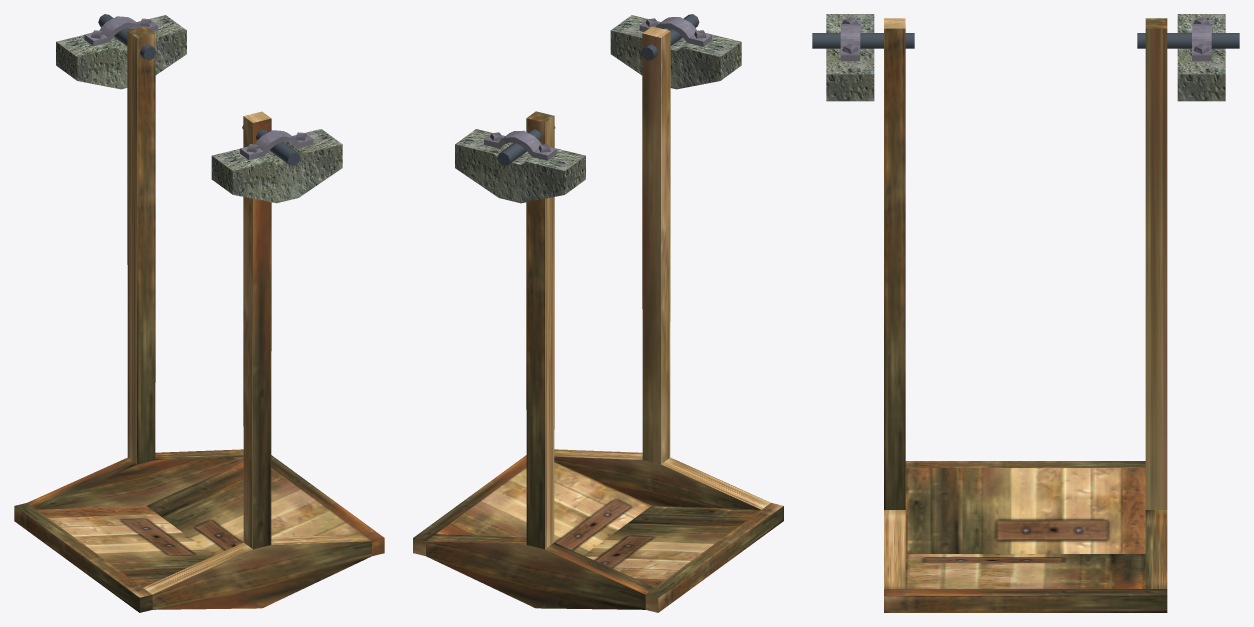
Rendered from P_Modul_08.FBX.
The picture shows the model from 3 angles, left to right: view 1: azimuth 30°, elevation 25°; view 2: azimuth 150°, elevation 25°; view 3: azimuth 270°, elevation 25°; orthographic projection. The views are drawn at different scales.
Parts seen in each view (by area): view 1: P_Modul_08_S2, P_Modul_08_S3, P_Modul_08_S5, P_Modul_08_S7, P_Modul_08_S6, P_Modul_08_S4, P_Modul_08_F1, P_Modul_08_F2, P_Modul_08_S8, P_Modul_08_S9, P_Modul_08_S1; view 2: P_Modul_08_S3, P_Modul_08_S2, P_Modul_08_S4, P_Modul_08_S7, P_Modul_08_S6, P_Modul_08_S5, P_Modul_08_F2, P_Modul_08_F1, P_Modul_08_S8, P_Modul_08_S9, P_Modul_08_S1; view 3: P_Modul_08_S6, P_Modul_08_S2, P_Modul_08_S3, P_Modul_08_S7, P_Modul_08_S9, P_Modul_08_F1, P_Modul_08_F2, P_Modul_08_S1, P_Modul_08_S4, P_Modul_08_S5, P_Modul_08_S8.
Part boxes in pixels (x1,y1,x2,y2): P_Modul_08_S2: (127, 26, 155, 464); P_Modul_08_S3: (243, 116, 271, 549); P_Modul_08_S5: (143, 534, 371, 609); P_Modul_08_S7: (146, 462, 361, 555); P_Modul_08_S6: (37, 505, 213, 587); P_Modul_08_S4: (27, 449, 243, 509); P_Modul_08_F1: (211, 129, 342, 203); P_Modul_08_F2: (56, 15, 186, 89); P_Modul_08_S8: (14, 503, 152, 612); P_Modul_08_S9: (271, 455, 384, 556); P_Modul_08_S1: (98, 14, 300, 165); P_Modul_08_S3: (642, 31, 670, 464); P_Modul_08_S2: (526, 111, 554, 549); P_Modul_08_S4: (426, 534, 654, 609); P_Modul_08_S7: (436, 462, 651, 555); P_Modul_08_S6: (584, 505, 760, 587); P_Modul_08_S5: (554, 449, 770, 509); P_Modul_08_F2: (455, 129, 585, 203); P_Modul_08_F1: (610, 15, 741, 89); P_Modul_08_S8: (645, 503, 783, 612); P_Modul_08_S9: (413, 455, 526, 556); P_Modul_08_S1: (497, 14, 699, 165); P_Modul_08_S6: (905, 468, 1145, 553); P_Modul_08_S2: (1145, 18, 1167, 509); P_Modul_08_S3: (884, 28, 905, 509); P_Modul_08_S7: (905, 554, 1145, 588); P_Modul_08_S9: (884, 589, 1167, 612); P_Modul_08_F1: (826, 14, 874, 101); P_Modul_08_F2: (1177, 14, 1225, 101); P_Modul_08_S1: (812, 33, 1239, 48); P_Modul_08_S4: (1145, 510, 1167, 588); P_Modul_08_S5: (884, 510, 905, 588); P_Modul_08_S8: (905, 461, 1145, 467).
Size of the model in its own units: 6.7 by 12.74 by 8.97.
4 materials, 3 textured.
